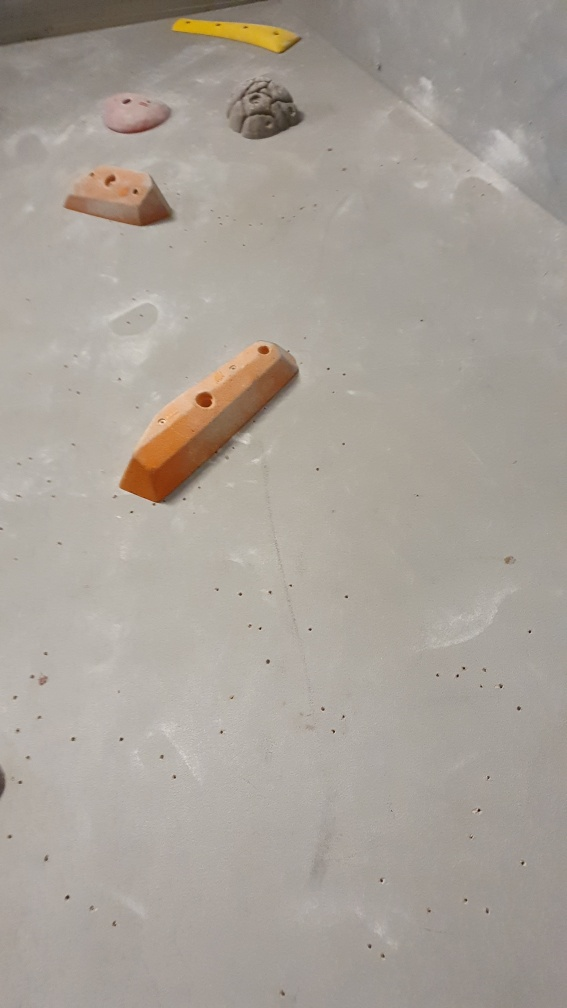Crimp: (172, 18, 301, 56)
Jug: (223, 73, 306, 145)
Pinch: (116, 333, 306, 508), (61, 158, 181, 228)
